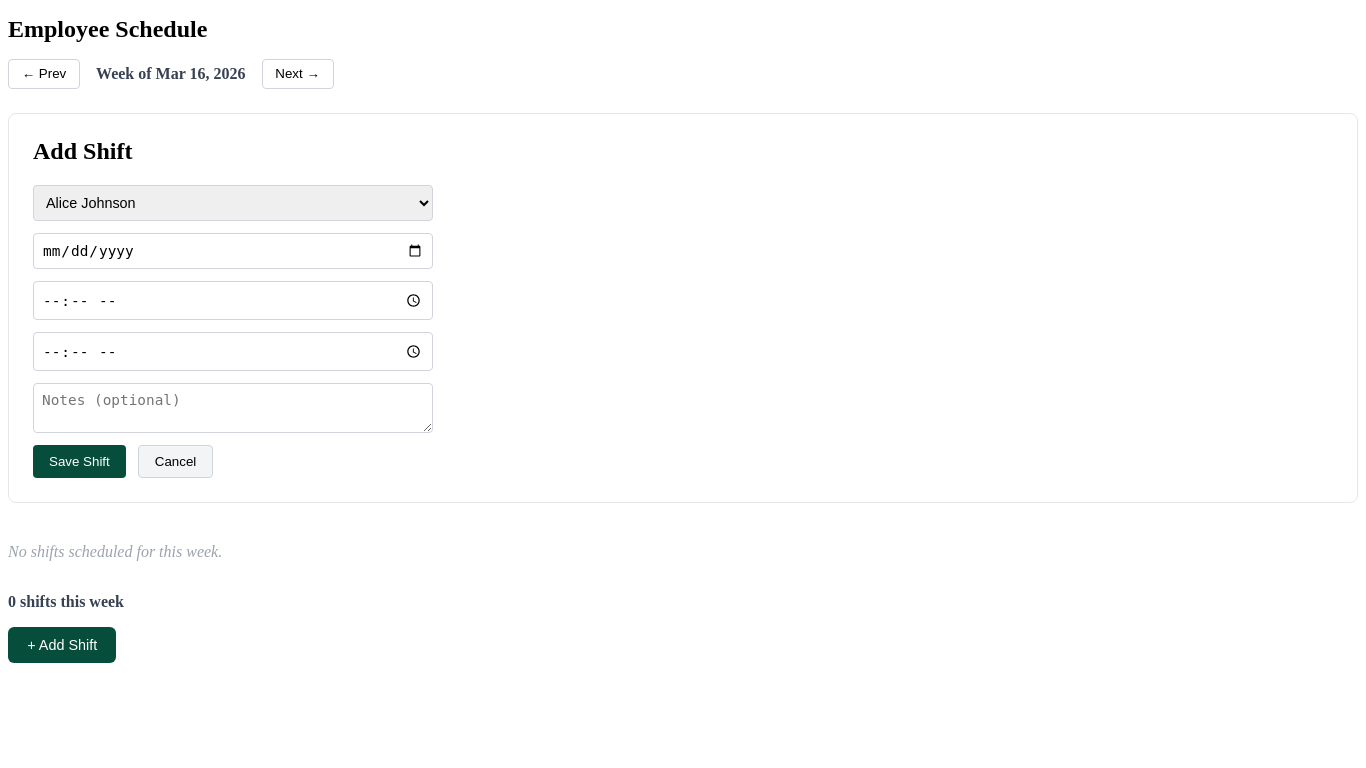
Test: ScheduleComponent › should hide form after cancel
Click the button with class "cancel-btn" at (176, 462), box [138,445,213,478]
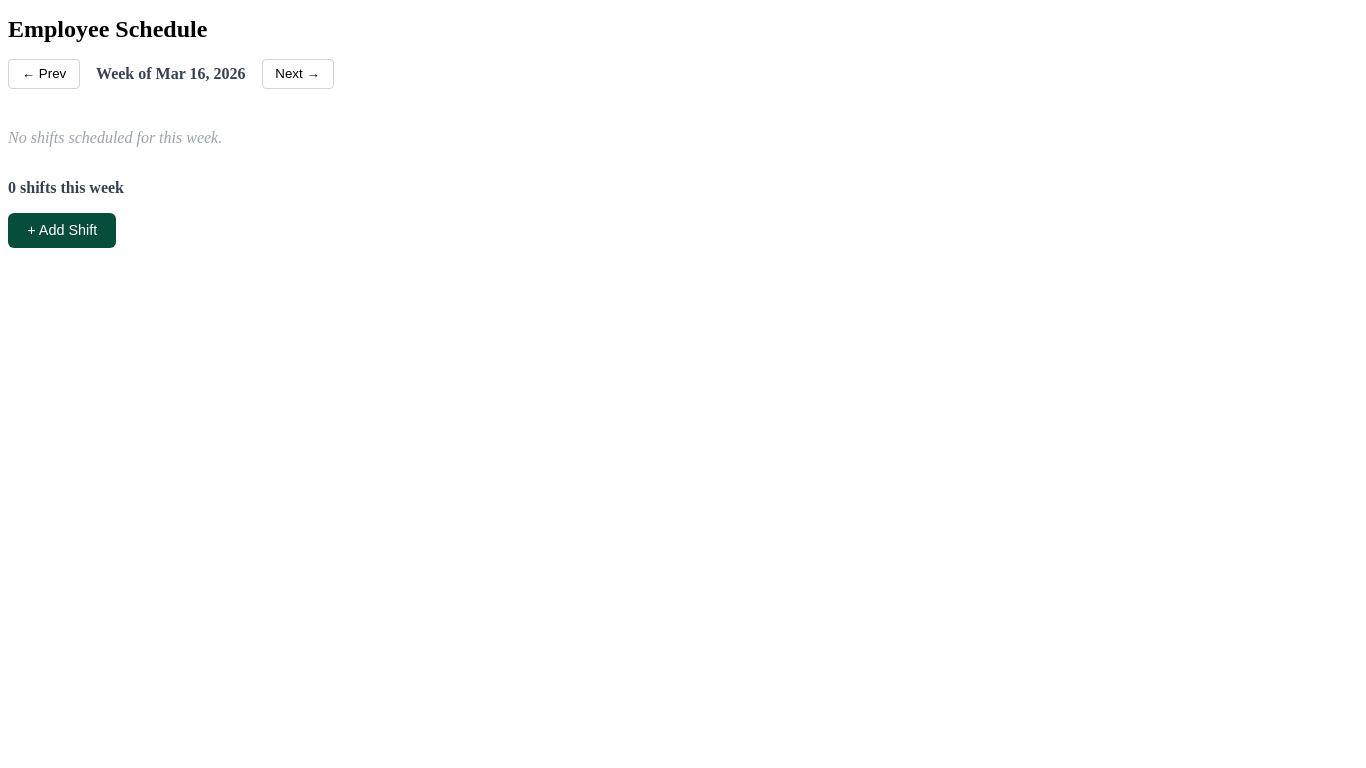
Now the element with class "form-panel" is gone
